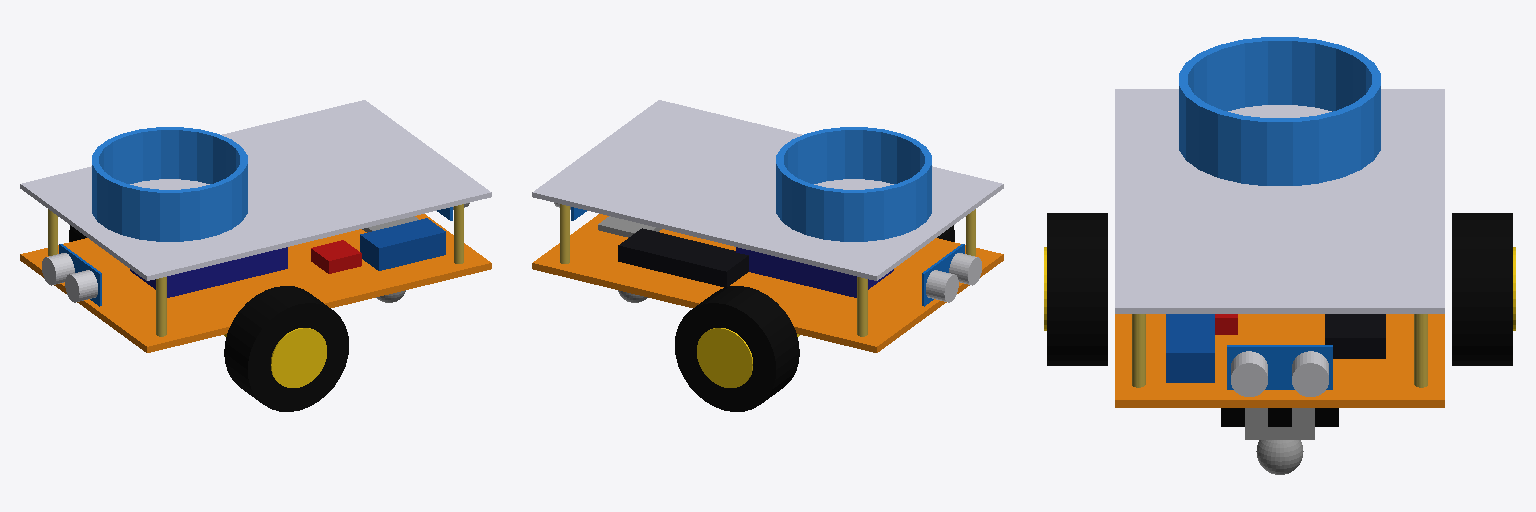
URDF robot description (carro_recolector):
<?xml version="1.0"?>
<!-- carro.urdf - Carro recolector de vasos (Grupo 5). Generado por generar_cad.py, escala 4.0:1 -->
<robot name="carro_recolector">
  <link name="chasis">
    <visual name="chasis"><origin xyz="0.00000 0.00000 0.00000" rpy="0 0 0.00000"/><geometry><box size="0.88000 0.56000 0.01600"/></geometry><material name="m_chasis"><color rgba="0.95 0.55 0.10 1"/></material></visual>
    <visual name="piso2"><origin xyz="0.00000 0.00000 0.17400" rpy="0 0 0.00000"/><geometry><box size="0.88000 0.56000 0.01200"/></geometry><material name="m_piso2"><color rgba="0.85 0.85 0.90 1"/></material></visual>
    <visual name="separador"><origin xyz="-0.38000 -0.24000 0.08800" rpy="0 0 0"/><geometry><cylinder radius="0.01200" length="0.16000"/></geometry><material name="m_separador"><color rgba="0.80 0.70 0.30 1"/></material></visual>
    <visual name="separador"><origin xyz="-0.38000 0.24000 0.08800" rpy="0 0 0"/><geometry><cylinder radius="0.01200" length="0.16000"/></geometry><material name="m_separador"><color rgba="0.80 0.70 0.30 1"/></material></visual>
    <visual name="separador"><origin xyz="0.38000 -0.24000 0.08800" rpy="0 0 0"/><geometry><cylinder radius="0.01200" length="0.16000"/></geometry><material name="m_separador"><color rgba="0.80 0.70 0.30 1"/></material></visual>
    <visual name="separador"><origin xyz="0.38000 0.24000 0.08800" rpy="0 0 0"/><geometry><cylinder radius="0.01200" length="0.16000"/></geometry><material name="m_separador"><color rgba="0.80 0.70 0.30 1"/></material></visual>
    <visual name="motor"><origin xyz="-0.12000 -0.15000 -0.04560" rpy="0 0 0.00000"/><geometry><box size="0.09000 0.26000 0.07520"/></geometry><material name="m_motor"><color rgba="0.95 0.80 0.10 1"/></material></visual>
    <visual name="motor"><origin xyz="-0.12000 0.15000 -0.04560" rpy="0 0 0.00000"/><geometry><box size="0.09000 0.26000 0.07520"/></geometry><material name="m_motor"><color rgba="0.95 0.80 0.10 1"/></material></visual>
    <visual name="soporte_loca"><origin xyz="0.34000 0.00000 -0.03200" rpy="0 0 0.00000"/><geometry><box size="0.12000 0.12000 0.10800"/></geometry><material name="m_soporte_loca"><color rgba="0.60 0.60 0.60 1"/></material></visual>
    <visual name="esp32_s3"><origin xyz="0.14000 0.12800 0.02800" rpy="0 0 0.00000"/><geometry><box size="0.27600 0.10400 0.04000"/></geometry><material name="m_esp32_s3"><color rgba="0.10 0.10 0.12 1"/></material></visual>
    <visual name="tb6612"><origin xyz="0.14000 -0.11200 0.02400" rpy="0 0 0.00000"/><geometry><box size="0.08400 0.08000 0.03200"/></geometry><material name="m_tb6612"><color rgba="0.75 0.10 0.10 1"/></material></visual>
    <visual name="bateria"><origin xyz="-0.12000 0.00000 0.05000" rpy="0 0 0.00000"/><geometry><box size="0.30800 0.16400 0.08400"/></geometry><material name="m_bateria"><color rgba="0.15 0.15 0.55 1"/></material></visual>
    <visual name="buck_5v"><origin xyz="0.28800 -0.15200 0.03600" rpy="0 0 0.00000"/><geometry><box size="0.17200 0.08400 0.05600"/></geometry><material name="m_buck_5v"><color rgba="0.10 0.35 0.65 1"/></material></visual>
    <visual name="hcsr04"><origin xyz="0.44800 0.00000 0.07200" rpy="0 0 0.00000"/><geometry><box size="0.00640 0.18000 0.08000"/></geometry><material name="m_hcsr04"><color rgba="0.10 0.45 0.80 1"/></material></visual>
    <visual name="transductor"><origin xyz="0.47520 -0.05200 0.07200" rpy="0 1.5708 0"/><geometry><cylinder radius="0.03200" length="0.04800"/></geometry><material name="m_transductor"><color rgba="0.80 0.80 0.82 1"/></material></visual>
    <visual name="transductor"><origin xyz="0.47520 0.05200 0.07200" rpy="0 1.5708 0"/><geometry><cylinder radius="0.03200" length="0.04800"/></geometry><material name="m_transductor"><color rgba="0.80 0.80 0.82 1"/></material></visual>
    <visual name="hcsr04"><origin xyz="-0.44800 0.00000 0.07200" rpy="0 0 0.00000"/><geometry><box size="0.00640 0.18000 0.08000"/></geometry><material name="m_hcsr04"><color rgba="0.10 0.45 0.80 1"/></material></visual>
    <visual name="transductor"><origin xyz="-0.47520 -0.05200 0.07200" rpy="0 1.5708 0"/><geometry><cylinder radius="0.03200" length="0.04800"/></geometry><material name="m_transductor"><color rgba="0.80 0.80 0.82 1"/></material></visual>
    <visual name="transductor"><origin xyz="-0.47520 0.05200 0.07200" rpy="0 1.5708 0"/><geometry><cylinder radius="0.03200" length="0.04800"/></geometry><material name="m_transductor"><color rgba="0.80 0.80 0.82 1"/></material></visual>
    <visual name="ir_linea"><origin xyz="0.39200 -0.08000 -0.03200" rpy="0 0 0.00000"/><geometry><box size="0.04000 0.04000 0.04800"/></geometry><material name="m_ir_linea"><color rgba="0.05 0.05 0.05 1"/></material></visual>
    <visual name="ir_linea"><origin xyz="0.39200 0.00000 -0.03200" rpy="0 0 0.00000"/><geometry><box size="0.04000 0.04000 0.04800"/></geometry><material name="m_ir_linea"><color rgba="0.05 0.05 0.05 1"/></material></visual>
    <visual name="ir_linea"><origin xyz="0.39200 0.08000 -0.03200" rpy="0 0 0.00000"/><geometry><box size="0.04000 0.04000 0.04800"/></geometry><material name="m_ir_linea"><color rgba="0.05 0.05 0.05 1"/></material></visual>
    <visual name="portavaso"><origin xyz="-0.05600 0.00000 0.24000" rpy="0 0 0.00000"/><geometry><box size="0.01600 0.04508 0.12000"/></geometry><material name="m_portavaso"><color rgba="0.20 0.55 0.90 1"/></material></visual>
    <visual name="portavaso"><origin xyz="-0.06159 0.04245 0.24000" rpy="0 0 0.26180"/><geometry><box size="0.01600 0.04508 0.12000"/></geometry><material name="m_portavaso"><color rgba="0.20 0.55 0.90 1"/></material></visual>
    <visual name="portavaso"><origin xyz="-0.07797 0.08200 0.24000" rpy="0 0 0.52360"/><geometry><box size="0.01600 0.04508 0.12000"/></geometry><material name="m_portavaso"><color rgba="0.20 0.55 0.90 1"/></material></visual>
    <visual name="portavaso"><origin xyz="-0.10403 0.11597 0.24000" rpy="0 0 0.78540"/><geometry><box size="0.01600 0.04508 0.12000"/></geometry><material name="m_portavaso"><color rgba="0.20 0.55 0.90 1"/></material></visual>
    <visual name="portavaso"><origin xyz="-0.13800 0.14203 0.24000" rpy="0 0 1.04720"/><geometry><box size="0.01600 0.04508 0.12000"/></geometry><material name="m_portavaso"><color rgba="0.20 0.55 0.90 1"/></material></visual>
    <visual name="portavaso"><origin xyz="-0.17755 0.15841 0.24000" rpy="0 0 1.30900"/><geometry><box size="0.01600 0.04508 0.12000"/></geometry><material name="m_portavaso"><color rgba="0.20 0.55 0.90 1"/></material></visual>
    <visual name="portavaso"><origin xyz="-0.22000 0.16400 0.24000" rpy="0 0 1.57080"/><geometry><box size="0.01600 0.04508 0.12000"/></geometry><material name="m_portavaso"><color rgba="0.20 0.55 0.90 1"/></material></visual>
    <visual name="portavaso"><origin xyz="-0.26245 0.15841 0.24000" rpy="0 0 1.83260"/><geometry><box size="0.01600 0.04508 0.12000"/></geometry><material name="m_portavaso"><color rgba="0.20 0.55 0.90 1"/></material></visual>
    <visual name="portavaso"><origin xyz="-0.30200 0.14203 0.24000" rpy="0 0 2.09440"/><geometry><box size="0.01600 0.04508 0.12000"/></geometry><material name="m_portavaso"><color rgba="0.20 0.55 0.90 1"/></material></visual>
    <visual name="portavaso"><origin xyz="-0.33597 0.11597 0.24000" rpy="0 0 2.35619"/><geometry><box size="0.01600 0.04508 0.12000"/></geometry><material name="m_portavaso"><color rgba="0.20 0.55 0.90 1"/></material></visual>
    <visual name="portavaso"><origin xyz="-0.36203 0.08200 0.24000" rpy="0 0 2.61799"/><geometry><box size="0.01600 0.04508 0.12000"/></geometry><material name="m_portavaso"><color rgba="0.20 0.55 0.90 1"/></material></visual>
    <visual name="portavaso"><origin xyz="-0.37841 0.04245 0.24000" rpy="0 0 2.87979"/><geometry><box size="0.01600 0.04508 0.12000"/></geometry><material name="m_portavaso"><color rgba="0.20 0.55 0.90 1"/></material></visual>
    <visual name="portavaso"><origin xyz="-0.38400 0.00000 0.24000" rpy="0 0 3.14159"/><geometry><box size="0.01600 0.04508 0.12000"/></geometry><material name="m_portavaso"><color rgba="0.20 0.55 0.90 1"/></material></visual>
    <visual name="portavaso"><origin xyz="-0.37841 -0.04245 0.24000" rpy="0 0 3.40339"/><geometry><box size="0.01600 0.04508 0.12000"/></geometry><material name="m_portavaso"><color rgba="0.20 0.55 0.90 1"/></material></visual>
    <visual name="portavaso"><origin xyz="-0.36203 -0.08200 0.24000" rpy="0 0 3.66519"/><geometry><box size="0.01600 0.04508 0.12000"/></geometry><material name="m_portavaso"><color rgba="0.20 0.55 0.90 1"/></material></visual>
    <visual name="portavaso"><origin xyz="-0.33597 -0.11597 0.24000" rpy="0 0 3.92699"/><geometry><box size="0.01600 0.04508 0.12000"/></geometry><material name="m_portavaso"><color rgba="0.20 0.55 0.90 1"/></material></visual>
    <visual name="portavaso"><origin xyz="-0.30200 -0.14203 0.24000" rpy="0 0 4.18879"/><geometry><box size="0.01600 0.04508 0.12000"/></geometry><material name="m_portavaso"><color rgba="0.20 0.55 0.90 1"/></material></visual>
    <visual name="portavaso"><origin xyz="-0.26245 -0.15841 0.24000" rpy="0 0 4.45059"/><geometry><box size="0.01600 0.04508 0.12000"/></geometry><material name="m_portavaso"><color rgba="0.20 0.55 0.90 1"/></material></visual>
    <visual name="portavaso"><origin xyz="-0.22000 -0.16400 0.24000" rpy="0 0 4.71239"/><geometry><box size="0.01600 0.04508 0.12000"/></geometry><material name="m_portavaso"><color rgba="0.20 0.55 0.90 1"/></material></visual>
    <visual name="portavaso"><origin xyz="-0.17755 -0.15841 0.24000" rpy="0 0 4.97419"/><geometry><box size="0.01600 0.04508 0.12000"/></geometry><material name="m_portavaso"><color rgba="0.20 0.55 0.90 1"/></material></visual>
    <visual name="portavaso"><origin xyz="-0.13800 -0.14203 0.24000" rpy="0 0 5.23599"/><geometry><box size="0.01600 0.04508 0.12000"/></geometry><material name="m_portavaso"><color rgba="0.20 0.55 0.90 1"/></material></visual>
    <visual name="portavaso"><origin xyz="-0.10403 -0.11597 0.24000" rpy="0 0 5.49779"/><geometry><box size="0.01600 0.04508 0.12000"/></geometry><material name="m_portavaso"><color rgba="0.20 0.55 0.90 1"/></material></visual>
    <visual name="portavaso"><origin xyz="-0.07797 -0.08200 0.24000" rpy="0 0 5.75959"/><geometry><box size="0.01600 0.04508 0.12000"/></geometry><material name="m_portavaso"><color rgba="0.20 0.55 0.90 1"/></material></visual>
    <visual name="portavaso"><origin xyz="-0.06159 -0.04245 0.24000" rpy="0 0 6.02139"/><geometry><box size="0.01600 0.04508 0.12000"/></geometry><material name="m_portavaso"><color rgba="0.20 0.55 0.90 1"/></material></visual>
    <collision><origin xyz="0 0 0"/><geometry><box size="0.88000 0.56000 0.01600"/></geometry></collision>
    <collision><origin xyz="0 0 0.17400"/><geometry><box size="0.88000 0.56000 0.01200"/></geometry></collision>
    <collision><origin xyz="-0.12000 0.00000 0.04800"/><geometry><box size="0.36000 0.20000 0.08000"/></geometry></collision>
    <inertial><origin xyz="-0.06000 0 0"/><mass value="3.600"/>
      <inertia ixx="0.104683" iyy="0.242923" izz="0.326400" ixy="0" ixz="0" iyz="0"/></inertial>
  </link>

  <link name="rueda_izq">
    <visual><origin rpy="1.5708 0 0"/><geometry><cylinder radius="0.13000" length="0.10400"/></geometry>
      <material name="m_rueda"><color rgba="0.08 0.08 0.08 1"/></material></visual>
    <visual><origin xyz="0 0.05200 0" rpy="1.5708 0 0"/><geometry><cylinder radius="0.07150" length="0.00800"/></geometry>
      <material name="m_rin"><color rgba="0.95 0.8 0.1 1"/></material></visual>
    <collision><origin rpy="1.5708 0 0"/><geometry><cylinder radius="0.13000" length="0.10400"/></geometry></collision>
    <inertial><mass value="0.200"/><inertia ixx="0.001025" iyy="0.001690" izz="0.001025" ixy="0" ixz="0" iyz="0"/></inertial>
  </link>
  <joint name="motor_izq" type="continuous">
    <parent link="chasis"/><child link="rueda_izq"/>
    <origin xyz="-0.12000 0.34400 -0.04600"/><axis xyz="0 1 0"/>
  </joint>

  <link name="rueda_der">
    <visual><origin rpy="1.5708 0 0"/><geometry><cylinder radius="0.13000" length="0.10400"/></geometry>
      <material name="m_rueda"><color rgba="0.08 0.08 0.08 1"/></material></visual>
    <visual><origin xyz="0 -0.05200 0" rpy="1.5708 0 0"/><geometry><cylinder radius="0.07150" length="0.00800"/></geometry>
      <material name="m_rin"><color rgba="0.95 0.8 0.1 1"/></material></visual>
    <collision><origin rpy="1.5708 0 0"/><geometry><cylinder radius="0.13000" length="0.10400"/></geometry></collision>
    <inertial><mass value="0.200"/><inertia ixx="0.001025" iyy="0.001690" izz="0.001025" ixy="0" ixz="0" iyz="0"/></inertial>
  </link>
  <joint name="motor_der" type="continuous">
    <parent link="chasis"/><child link="rueda_der"/>
    <origin xyz="-0.12000 -0.34400 -0.04600"/><axis xyz="0 1 0"/>
  </joint>
  <link name="rueda_loca">
    <visual><geometry><sphere radius="0.04000"/></geometry>
      <material name="m_loca"><color rgba="0.6 0.6 0.6 1"/></material></visual>
    <collision><geometry><sphere radius="0.04000"/></geometry></collision>
    <inertial><mass value="0.040"/><inertia ixx="0.000205" iyy="0.000205" izz="0.000205" ixy="0" ixz="0" iyz="0"/></inertial>
  </link>
  <joint name="loca" type="fixed">
    <parent link="chasis"/><child link="rueda_loca"/>
    <origin xyz="0.34000 0.00000 -0.13600"/>
  </joint>
  <link name="porta_vaso"><inertial><mass value="0.001"/><inertia ixx="1e-6" iyy="1e-6" izz="1e-6" ixy="0" ixz="0" iyz="0"/></inertial></link>
  <joint name="porta_vaso" type="fixed">
    <parent link="chasis"/><child link="porta_vaso"/>
    <origin xyz="-0.22000 0.00000 0.18000"/>
  </joint>
  <link name="sensor_frontal"><inertial><mass value="0.001"/><inertia ixx="1e-6" iyy="1e-6" izz="1e-6" ixy="0" ixz="0" iyz="0"/></inertial></link>
  <joint name="sensor_frontal" type="fixed">
    <parent link="chasis"/><child link="sensor_frontal"/>
    <origin xyz="0.49600 0.00000 0.07200"/>
  </joint>
  <link name="sensor_trasero"><inertial><mass value="0.001"/><inertia ixx="1e-6" iyy="1e-6" izz="1e-6" ixy="0" ixz="0" iyz="0"/></inertial></link>
  <joint name="sensor_trasero" type="fixed">
    <parent link="chasis"/><child link="sensor_trasero"/>
    <origin xyz="-0.49600 0.00000 0.07200" rpy="0 0 3.14159"/>
  </joint>
</robot>

--- Render facts (derived) ---
Views: 3 orthographic renders of the robot side by side, from view 1: azimuth 30°, elevation 25°; view 2: azimuth 150°, elevation 25°; view 3: azimuth 270°, elevation 25°.
Robot: carro_recolector — 7 links, 6 joints (2 continuous, 4 fixed); root link chasis; default pose: every joint at zero.
Visible links, largest first — view 1: chasis, rueda_der; view 2: chasis, rueda_izq; view 3: chasis, rueda_izq, rueda_der, rueda_loca.
Boxes of the visible links, <box> form: chasis: <box>20,100,491,352</box>; rueda_der: <box>224,286,348,411</box>; chasis: <box>532,100,1003,352</box>; rueda_izq: <box>675,286,799,411</box>; chasis: <box>1115,37,1444,439</box>; rueda_izq: <box>1452,213,1515,365</box>; rueda_der: <box>1044,213,1107,365</box>; rueda_loca: <box>1256,440,1303,474</box>.
Bounding box of the posed robot: 0.9984 × 0.8 × 0.476 m (x, y, z).
Geometry: primitives only (box / cylinder / sphere), no mesh files.
